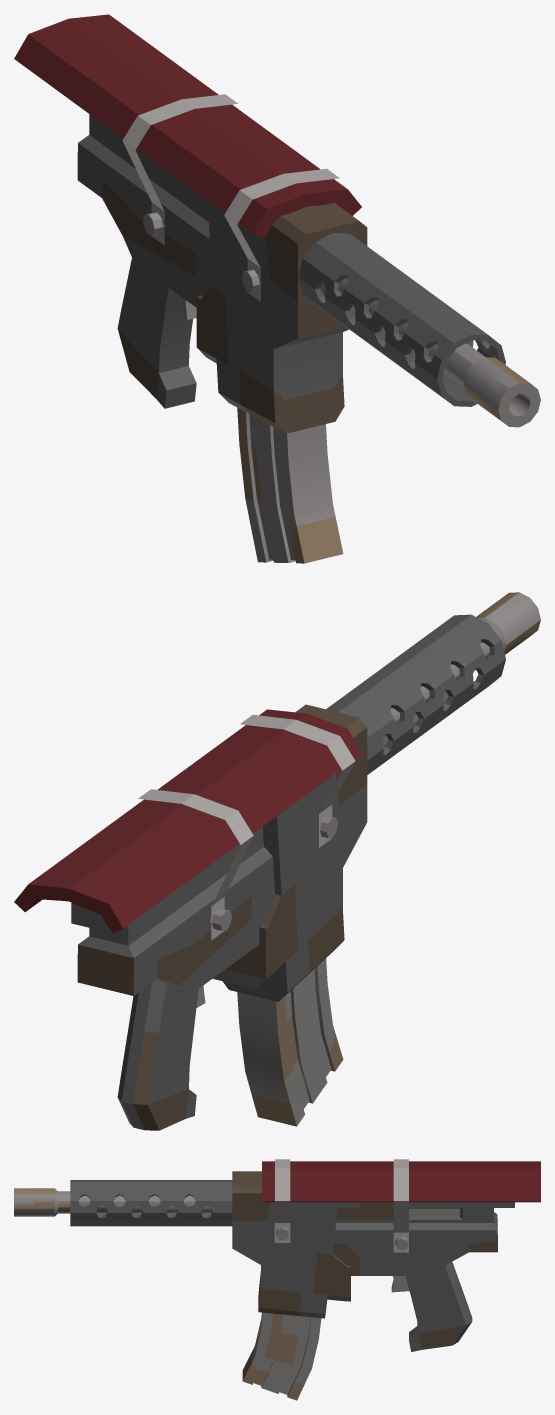
File: smg.glb
3 views of the same model, one above another, from view 1: azimuth 30°, elevation 25°; view 2: azimuth 150°, elevation 25°; view 3: azimuth 270°, elevation 25° (orthographic). The views are drawn at different scales.
Visible parts, largest first — view 1: SMG; view 2: SMG; view 3: SMG.
Boxes of the visible parts, x1=… form: SMG: x1=14, y1=14, x2=540, y2=563; SMG: x1=14, y1=592, x2=540, y2=1130; SMG: x1=14, y1=1159, x2=540, y2=1400.
Size of the model in its own units: 0.1507 by 0.4719 by 0.994.
Materials: 1 (1 with a texture image).
